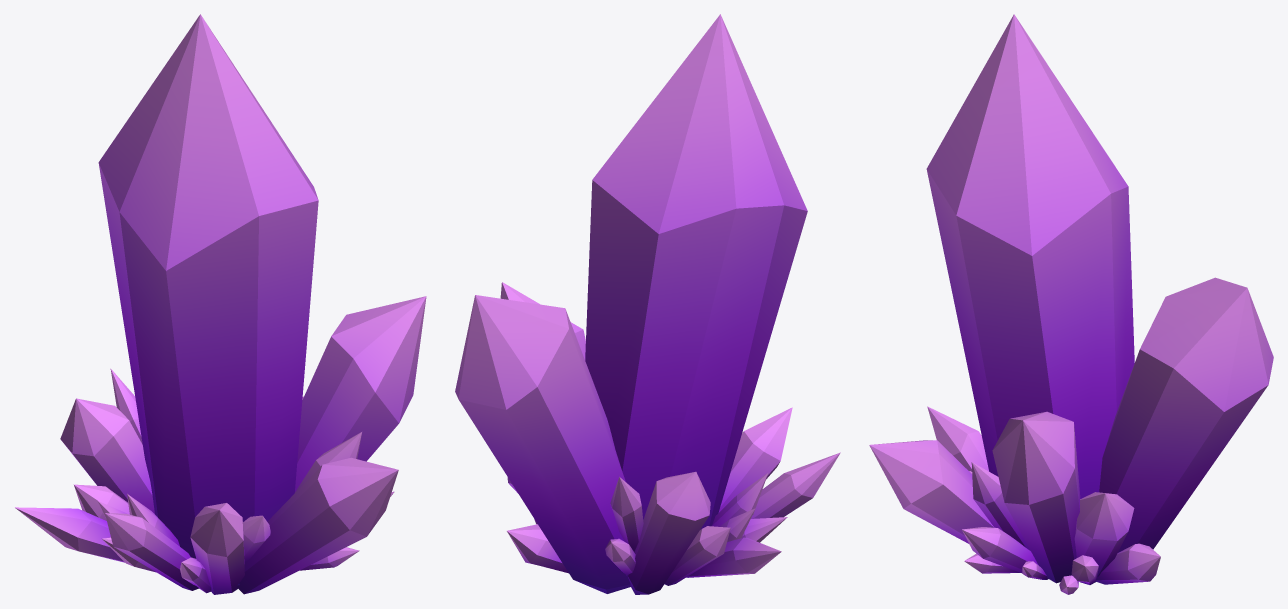
Rendered from crystal_breakable1.fbx.
3 renders of one model, left to right at view 1: azimuth 30°, elevation 25°; view 2: azimuth 150°, elevation 25°; view 3: azimuth 270°, elevation 25°, orthographic. The views are drawn at different scales.
Visible parts, largest first — view 1: crystal_breakable1; view 2: crystal_breakable1; view 3: crystal_breakable1.
Part boxes in pixels (<box>): crystal_breakable1: <box>15,14,426,594</box>; crystal_breakable1: <box>455,14,840,594</box>; crystal_breakable1: <box>869,14,1273,594</box>.
Size of the model in its own units: 9.24 by 14.81 by 10.15.
